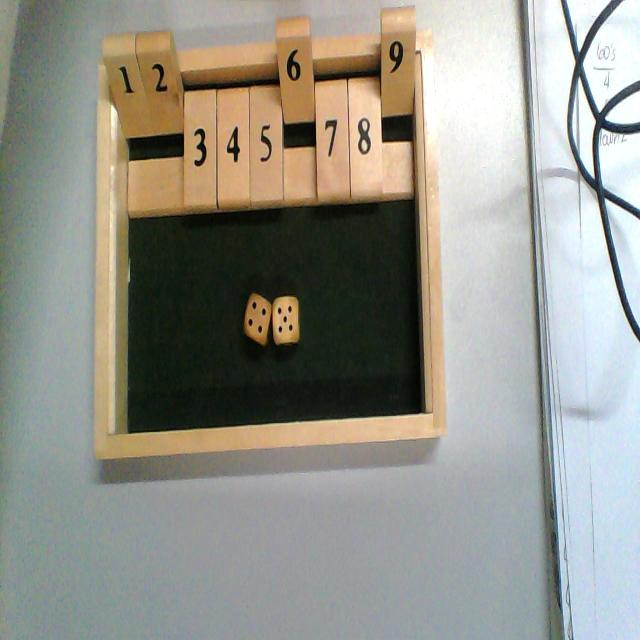4: (242, 291, 272, 346)
5: (272, 284, 299, 352)
C3: (182, 48, 218, 217)
C4: (218, 48, 252, 212)
C5: (251, 42, 284, 211)
C7: (314, 36, 352, 206)
C8: (348, 34, 383, 203)
O1: (103, 33, 154, 214)
O2: (136, 34, 184, 217)
O6: (276, 19, 316, 208)
O9: (380, 9, 414, 200)
